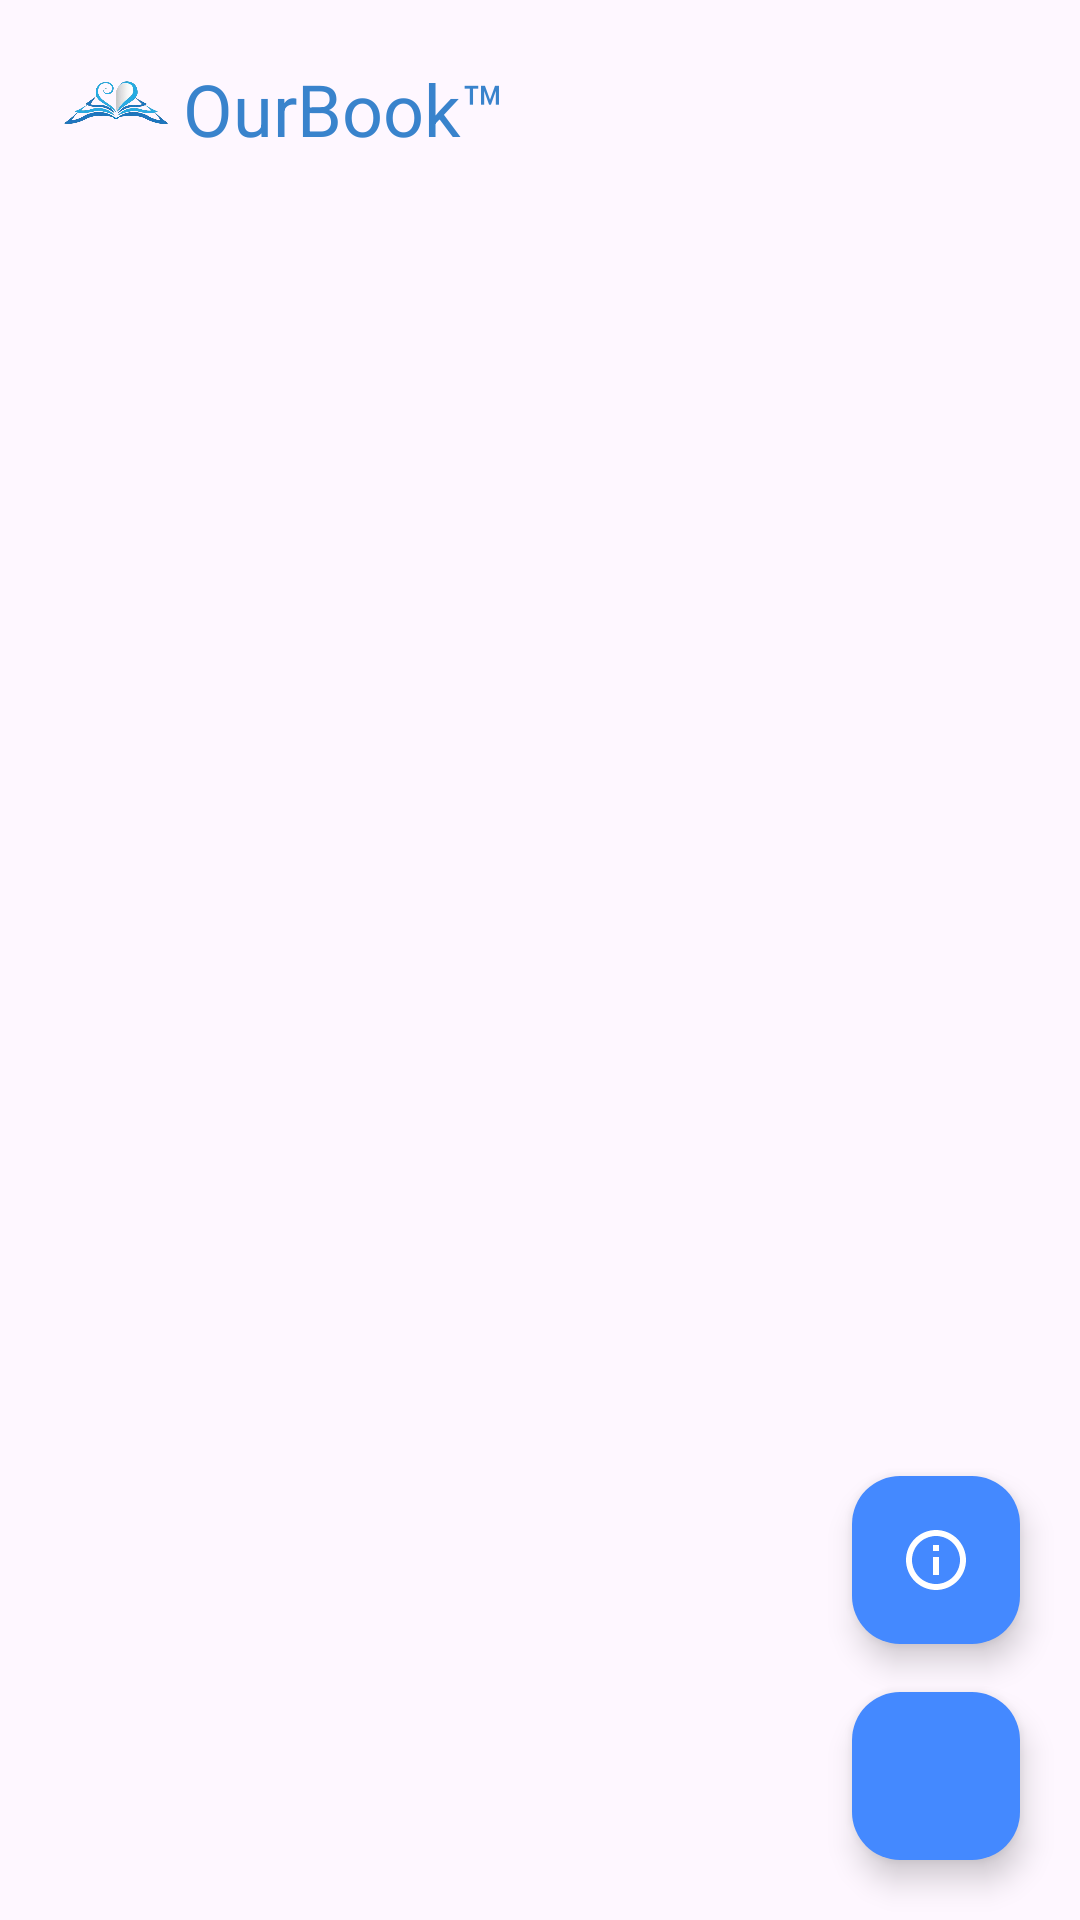

Icons on this 1080 × 1920 Android screen, each with the point to tap as (x=x, y=y):
info: (x=936, y=1560)
